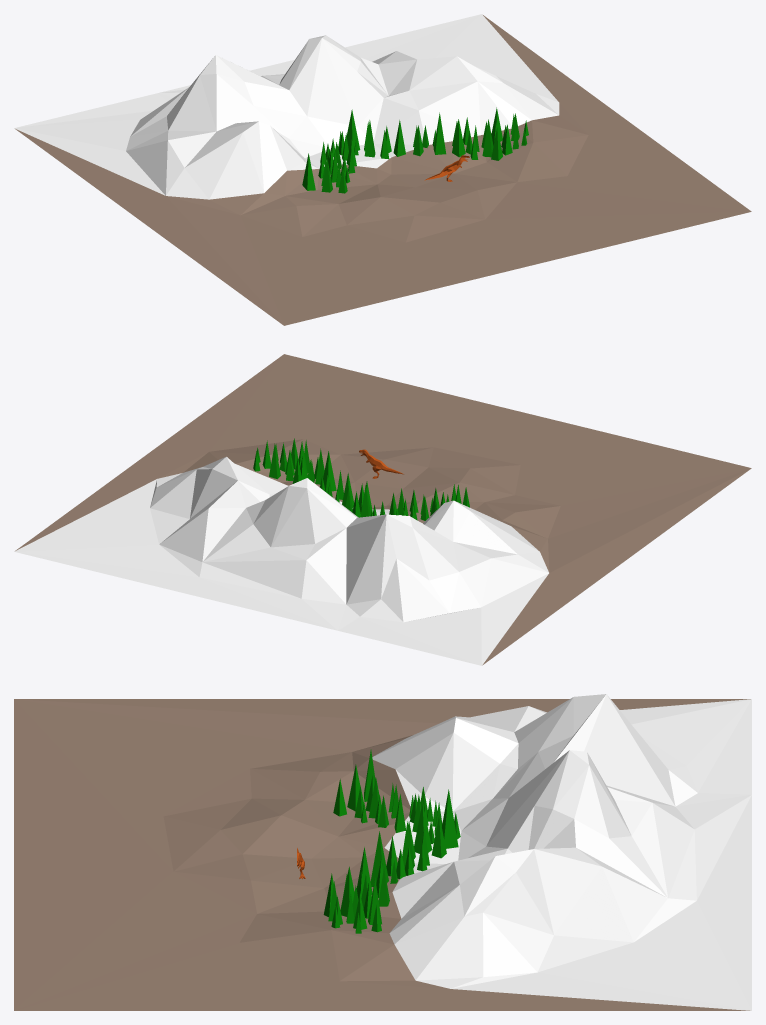
Rendered from low-poly-dinosaur.glb.
3 renders of one model, top to bottom at view 1: azimuth 30°, elevation 25°; view 2: azimuth 150°, elevation 25°; view 3: azimuth 270°, elevation 25°, orthographic. The views are drawn at different scales.
Visible parts, largest first — view 1: ground, mountains; view 2: ground, mountains; view 3: ground, mountains, Cone.
Part boxes in pixels (left/top/right/bottom): ground: left=15, top=15, right=751, bottom=325; mountains: left=14, top=14, right=559, bottom=199; ground: left=15, top=354, right=751, bottom=665; mountains: left=14, top=456, right=548, bottom=665; ground: left=14, top=699, right=750, bottom=1010; mountains: left=372, top=694, right=751, bottom=1010; Cone: left=442, top=789, right=458, bottom=848.
Bounding box in the file's own units: 60 × 9.93 × 60.
